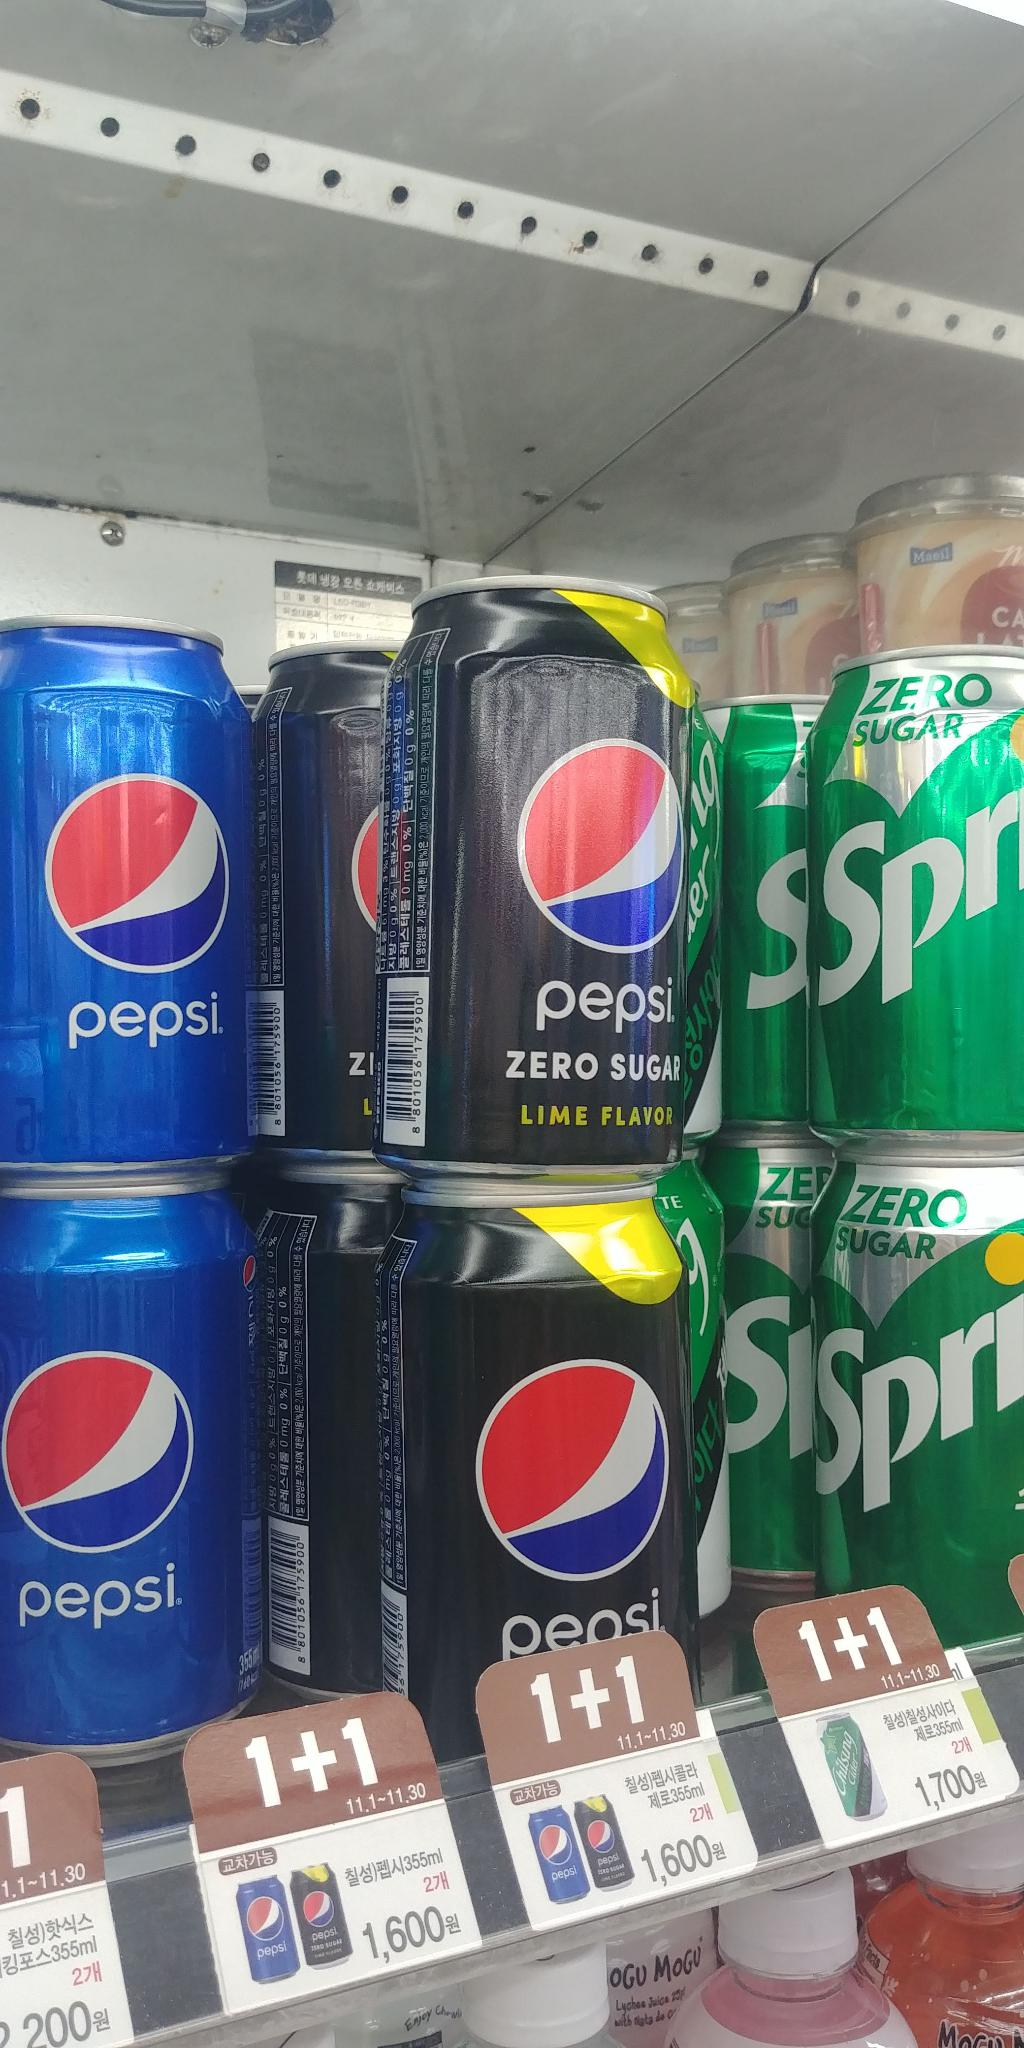pepsi_zero: (384, 573, 694, 1186)
